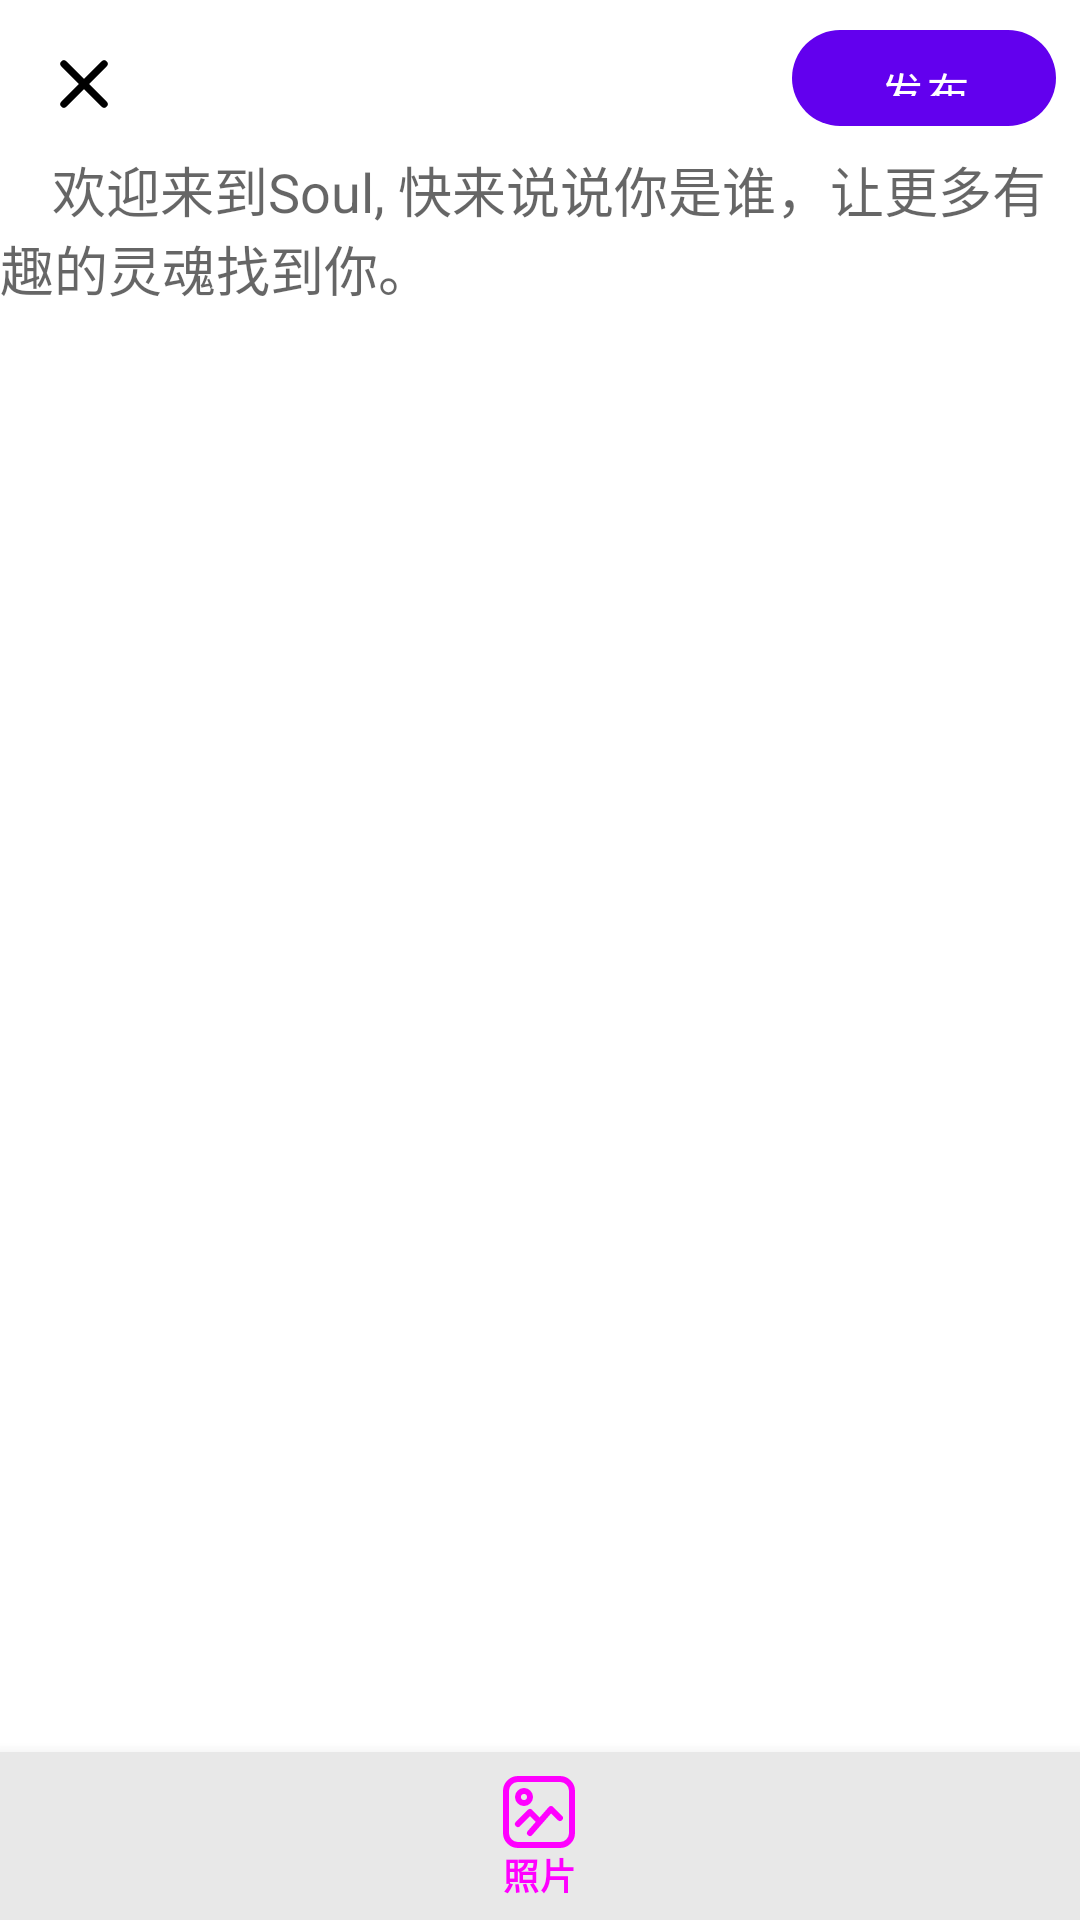

Where to tap for icons on this 1080×1920 app screen, as (x,y):
cancel: (84,84)
